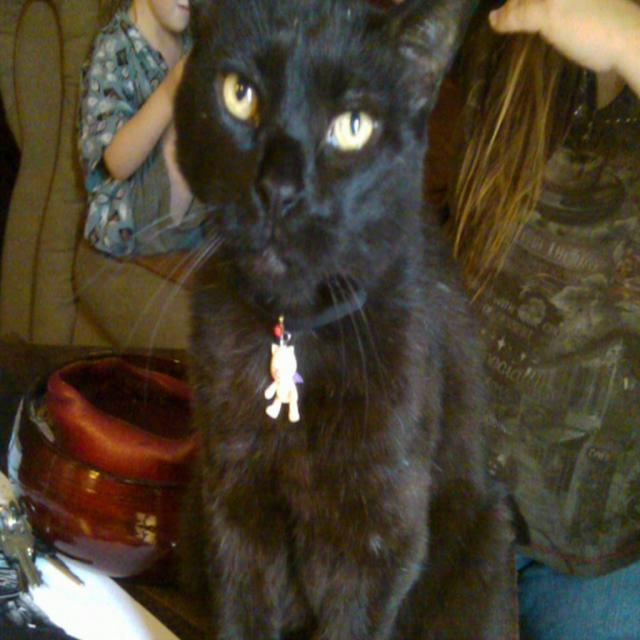Cat: (68, 0, 520, 639)
